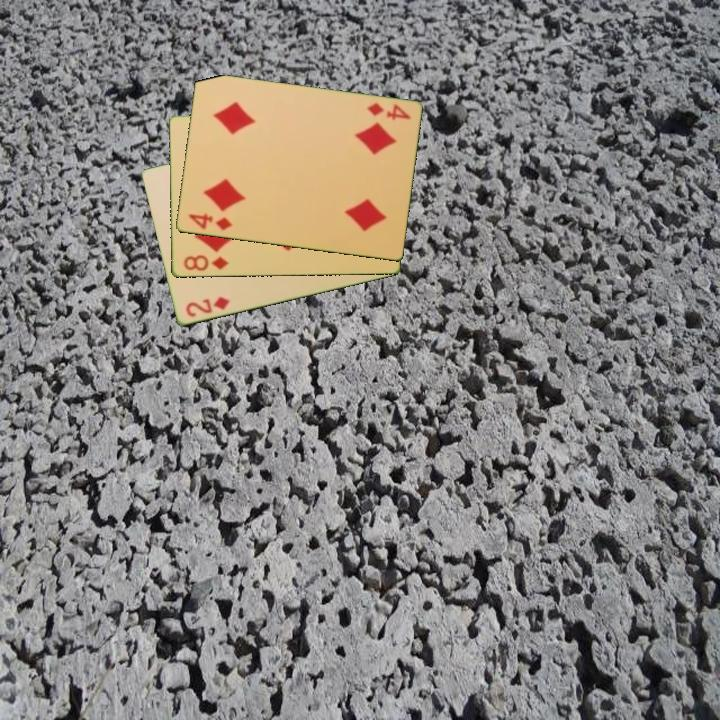2d: (182, 293, 232, 320)
4d: (185, 210, 235, 234), (363, 100, 413, 123)
8d: (180, 252, 231, 274)
